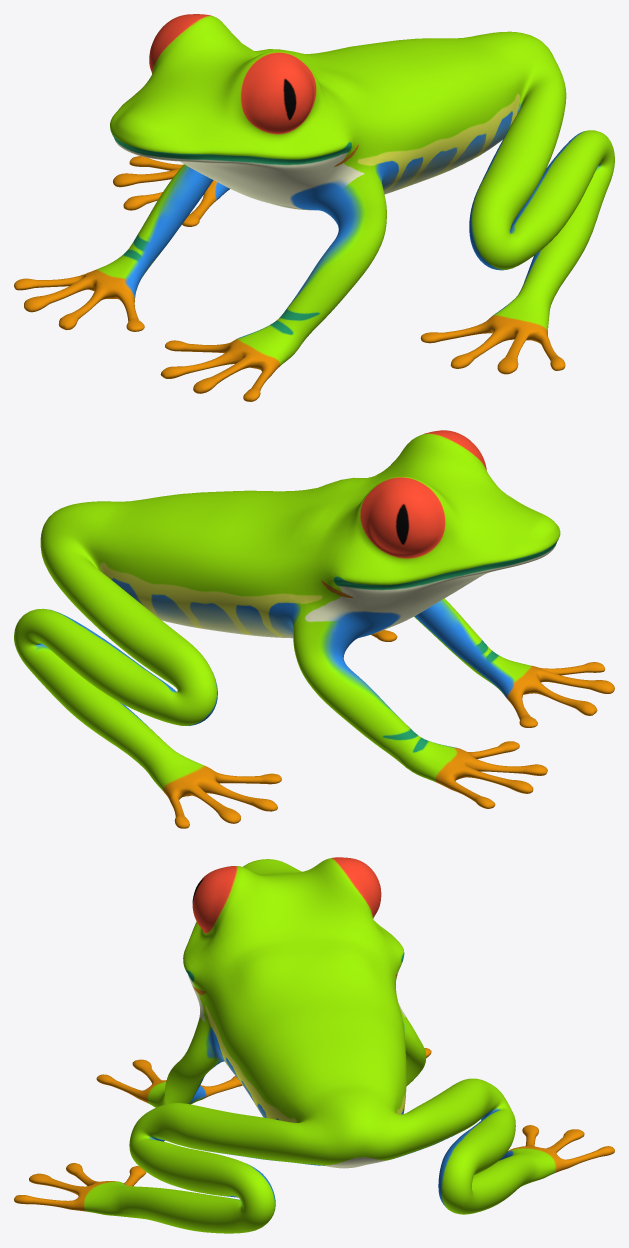
The model's file is Frog.glb.
3 renders of one model, top to bottom at view 1: azimuth 30°, elevation 25°; view 2: azimuth 150°, elevation 25°; view 3: azimuth 270°, elevation 25°, orthographic. The views are drawn at different scales.
Parts seen in each view (by area): view 1: node_id30; view 2: node_id30; view 3: node_id30.
Part boxes in pixels (x1,y1,x2,y2): node_id30: [14, 14, 614, 401]; node_id30: [14, 430, 614, 828]; node_id30: [14, 857, 614, 1233].
Bounding box in the file's own units: 0.4729 × 0.2377 × 0.5026.
Materials: 1 (1 with a texture image).
